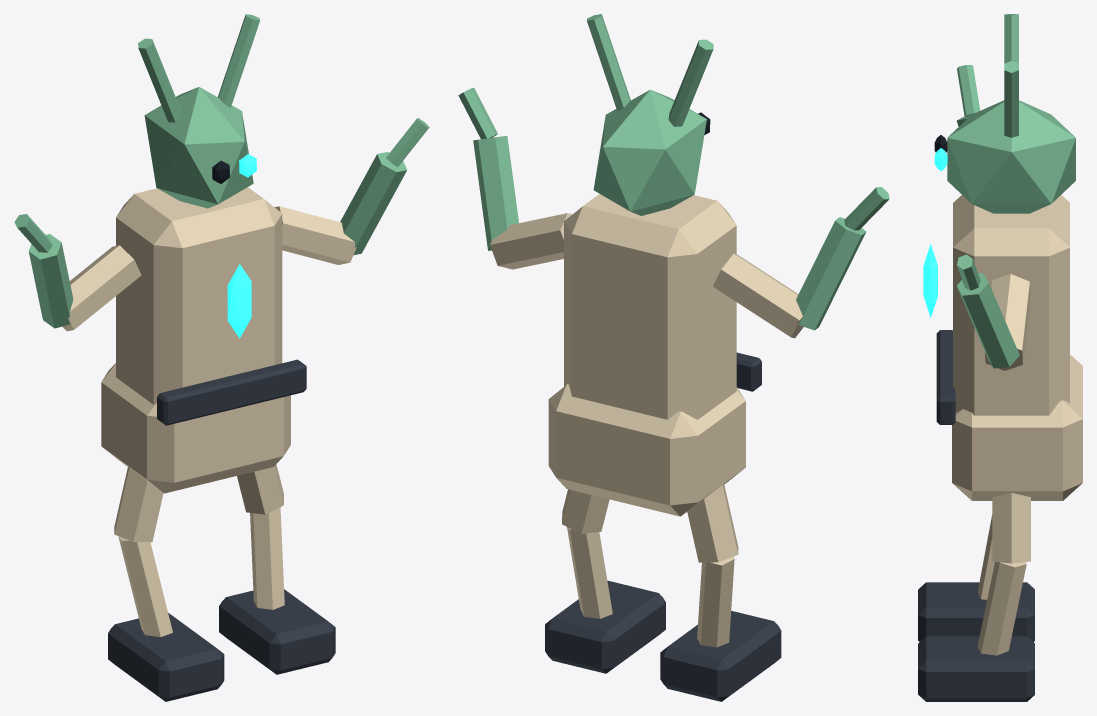
The model's file is npcs_018_seed11.glb.
The picture shows the model from 3 angles, left to right: view 1: azimuth 30°, elevation 25°; view 2: azimuth 150°, elevation 25°; view 3: azimuth 270°, elevation 25°; orthographic projection. The views are drawn at different scales.
Parts seen in each view (by area): view 1: npcs_018_seed11; view 2: npcs_018_seed11; view 3: npcs_018_seed11.
Boxes of the visible parts, x1,y1,x2,y2 form: npcs_018_seed11: (14, 14, 429, 701); npcs_018_seed11: (458, 14, 889, 701); npcs_018_seed11: (918, 14, 1082, 701).
Size of the model in its own units: 1.22 by 1.76 by 0.4235.
